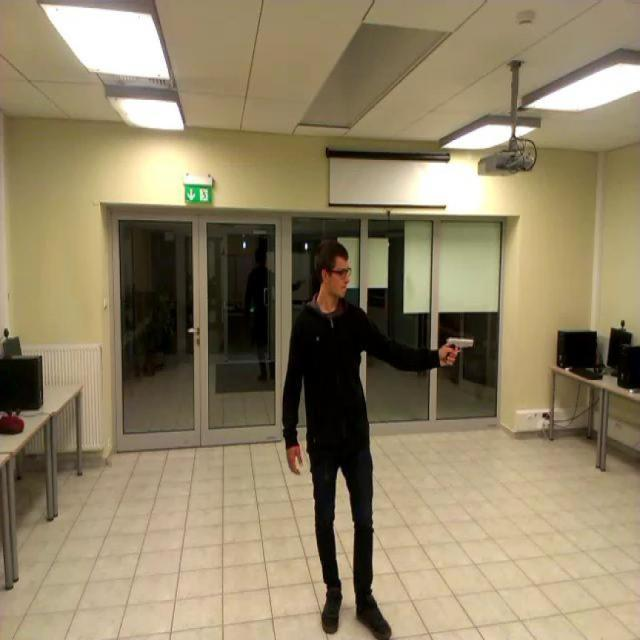pistol: (445, 336, 474, 362)
